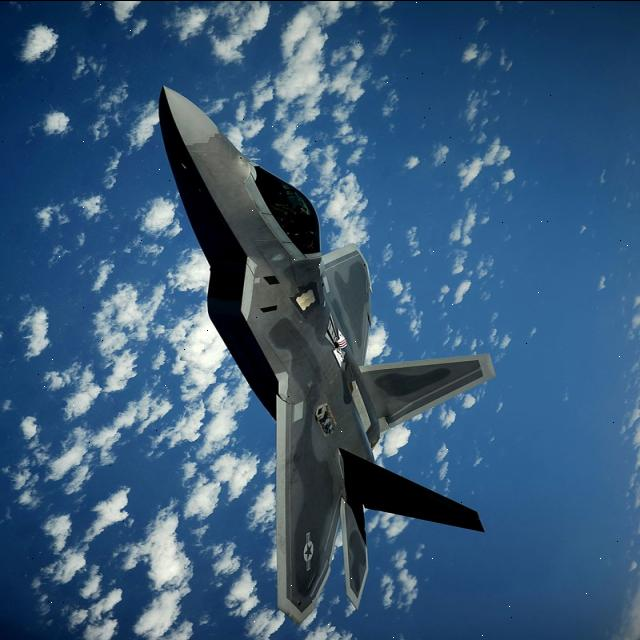F22: (137, 74, 514, 636)
